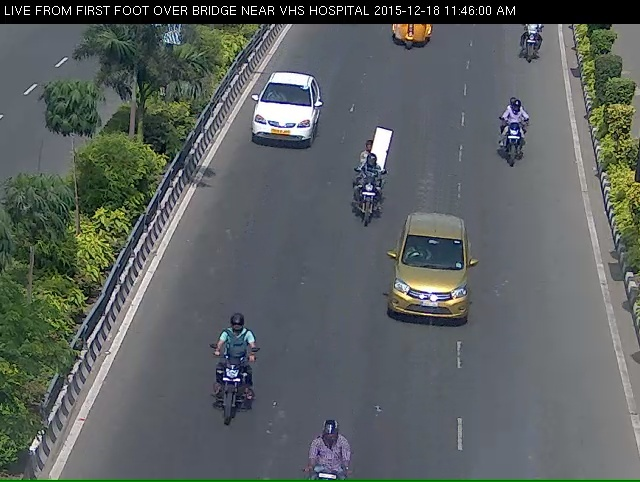Car: (382, 222, 488, 351), (238, 72, 323, 168), (389, 18, 436, 59)
Person: (186, 325, 251, 453), (346, 129, 393, 236), (482, 98, 535, 181), (521, 16, 547, 74)
